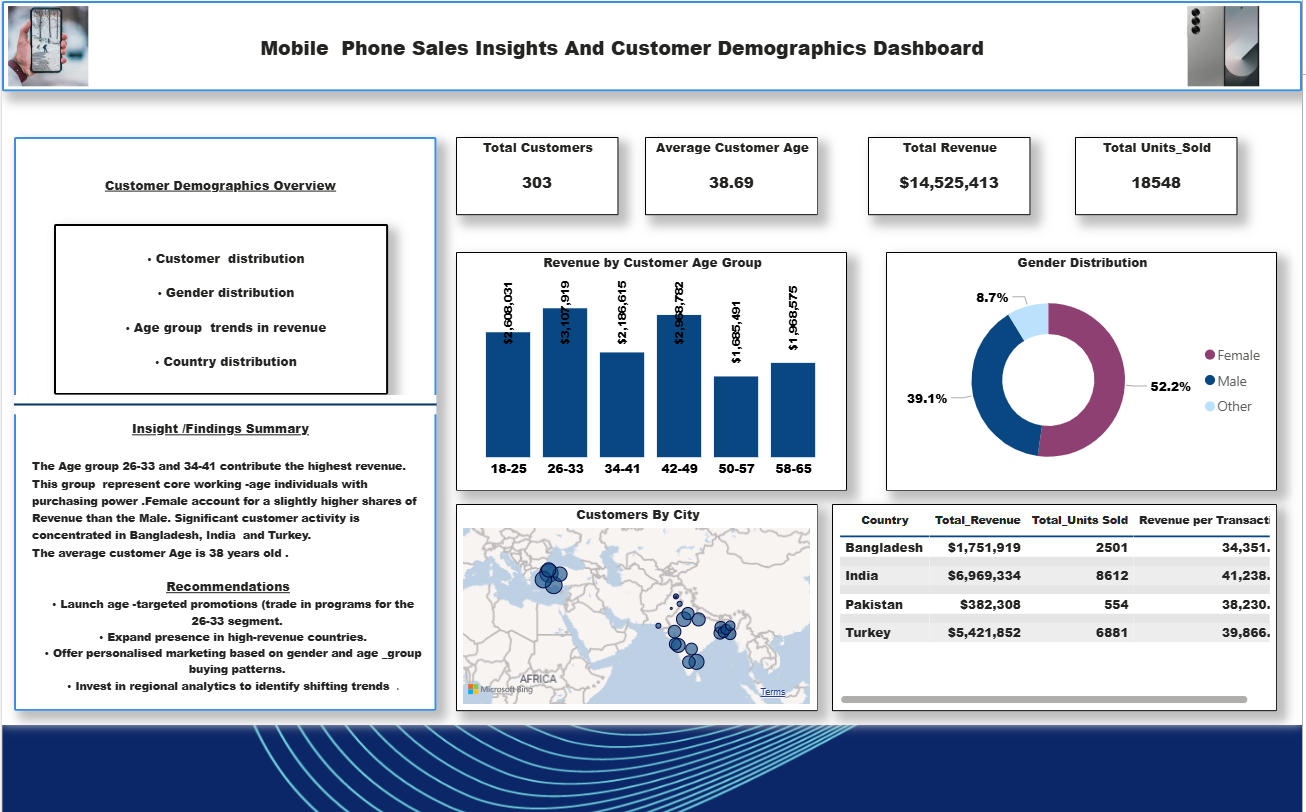

Layout of this report page (visuals, bound fields, positions):
{"tool":"powerbi","page":{"name":"Page 1","canvas":[1280,720],"ordinal":0},"visuals":[{"type":"shape","box":[0,6.8,1280,88.5],"z":0},{"type":"image","box":[1124.4,6.9,155.6,88.6],"z":1000},{"type":"shape","box":[11.8,140.8,416.5,565.2],"z":2000},{"type":"textbox","box":[24.6,156.6,381,48.2],"z":3000},{"type":"textbox","box":[51.2,226.5,328.9,168.4],"z":4000},{"type":"shape","box":[11.8,394.8,416.5,18.7],"z":5000},{"type":"card","title":"Total Customers","fields":{"Values":["Measure.Number of Transactions"]},"box":[447,140.8,159.5,76.8],"z":6000},{"type":"card","title":"Average Customer Age","fields":{"Values":["Measure.Avarage Customer Age"]},"box":[633.1,140.8,170.3,76.8],"z":7000},{"type":"card","title":"Total Revenue","fields":{"Values":["Measure.Total_Revenue"]},"box":[852.7,140.8,159.5,76.8],"z":8000},{"type":"card","title":"Total Units_Sold","fields":{"Values":["Measure.Total_Units Sold"]},"box":[1056.5,140.8,159.5,76.8],"z":9000},{"type":"clusteredColumnChart","title":"Revenue by Customer Age Group","fields":{"Category":["Sales_Data.Customer_Age_Group"],"Y":["Measure.Total_Revenue"]},"box":[447,254,385,235.3],"z":10000},{"type":"donutChart","title":"Gender Distribution","fields":{"Y":["CountNonNull(Sales_Data.Transaction_ID)"],"Category":["Sales_Data.Customer_Gender"]},"box":[870.4,254,385,235.3],"z":11000},{"type":"map","title":"Customers By City","fields":{"Category":["Sales_Data.City"],"Size":["Measure.Number of Transactions"]},"box":[447,502.2,356.4,203.8],"z":12000},{"type":"tableEx","fields":{"Values":["Sales_Data.Country","Measure.Total_Revenue","Measure.Total_Units Sold","Measure.Revenue per Transaction"]},"box":[817.2,502.2,438.2,203.8],"z":13000},{"type":"textbox","box":[24.6,413.5,381,36.4],"z":14000},{"type":"textbox","box":[24.6,450,395.8,247.1],"z":15000},{"type":"image","box":[0,6.9,91.6,88.6],"z":16000},{"type":"textbox","box":[84.7,16.7,1051.6,67.9],"z":17000}]}

Visuals, with their boxes on the page's 1280x720 design canvas (x1, y1, x2, y2). These are canvas units, not pixel positions in the 1306x812 screenshot, which may show the page scaled, cropped or inside an application window:
shape: region(0, 7, 1280, 95)
image: region(1124, 7, 1280, 96)
shape: region(12, 141, 428, 706)
textbox: region(25, 157, 406, 205)
textbox: region(51, 226, 380, 395)
shape: region(12, 395, 428, 414)
"Total Customers" card: region(447, 141, 606, 218)
"Average Customer Age" card: region(633, 141, 803, 218)
"Total Revenue" card: region(853, 141, 1012, 218)
"Total Units_Sold" card: region(1056, 141, 1216, 218)
"Revenue by Customer Age Group" clusteredColumnChart: region(447, 254, 832, 489)
"Gender Distribution" donutChart: region(870, 254, 1255, 489)
"Customers By City" map: region(447, 502, 803, 706)
tableEx - Sales_Data.Country x Measure.Total_Revenue: region(817, 502, 1255, 706)
textbox: region(25, 414, 406, 450)
textbox: region(25, 450, 420, 697)
image: region(0, 7, 92, 96)
textbox: region(85, 17, 1136, 85)
